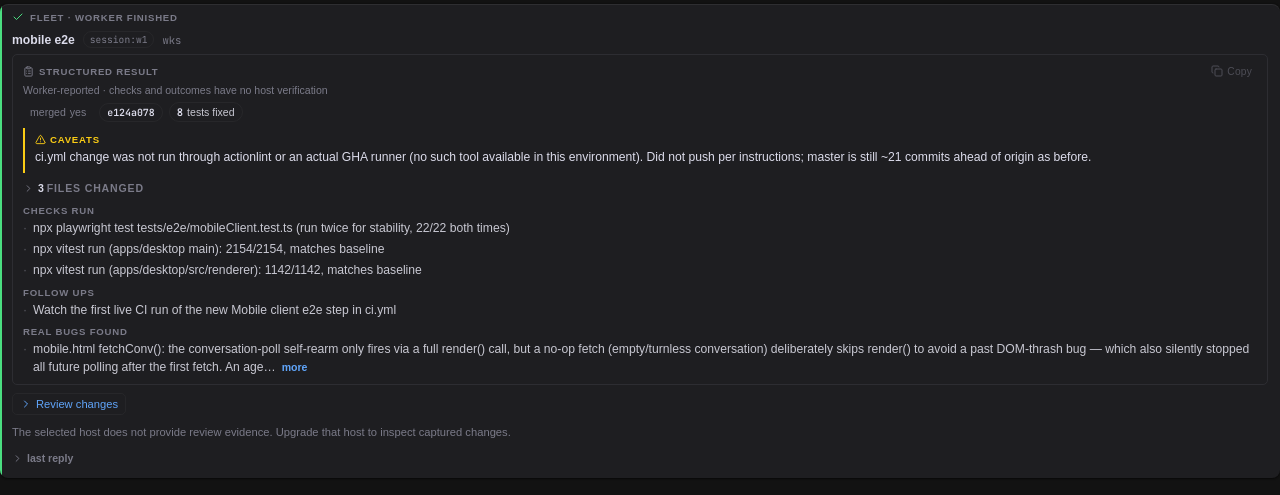
<StructuredResultCard> inside a fleet wake › keeps a field no schema anticipated, labelled from its key
The width and height of the screenshot is (1280, 495).
Check: the text "real bugs found" is shown, box [23, 326, 128, 337]
Click the button "more" at (295,367), box [282, 361, 308, 373]
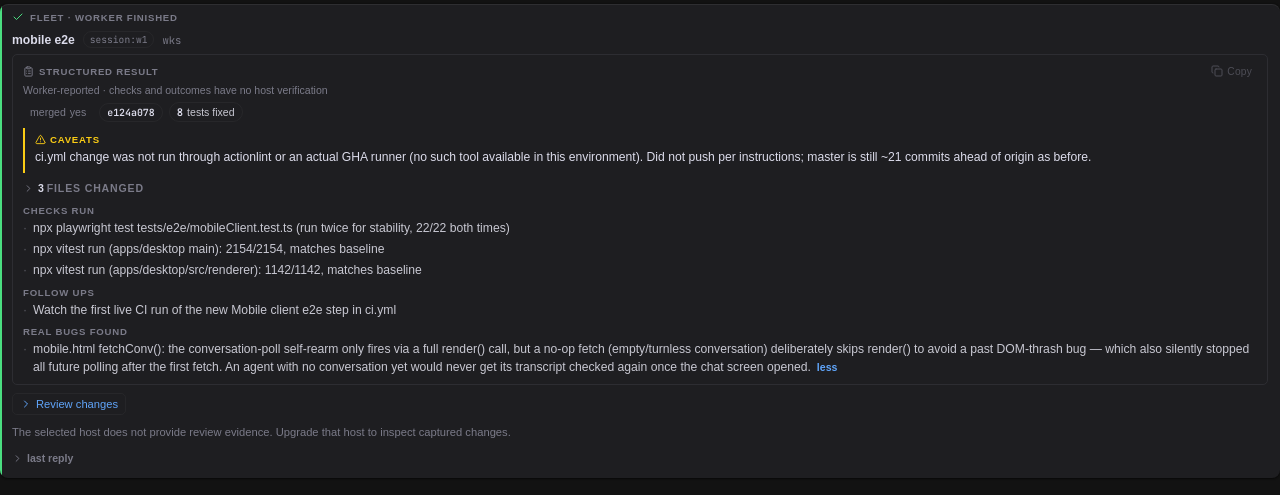
Check: the text "once the chat screen opened" is shown, box [33, 342, 1249, 374]
